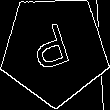P_S: (30, 20, 79, 79)
